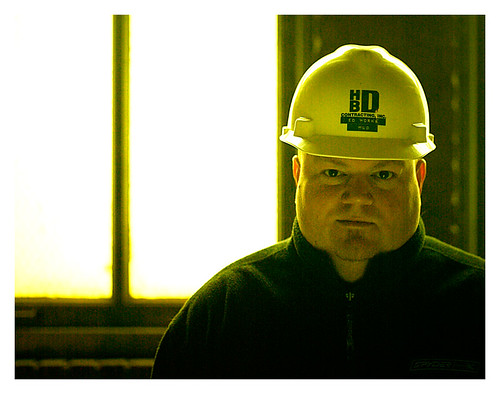person hardhat: (277, 43, 437, 261)
